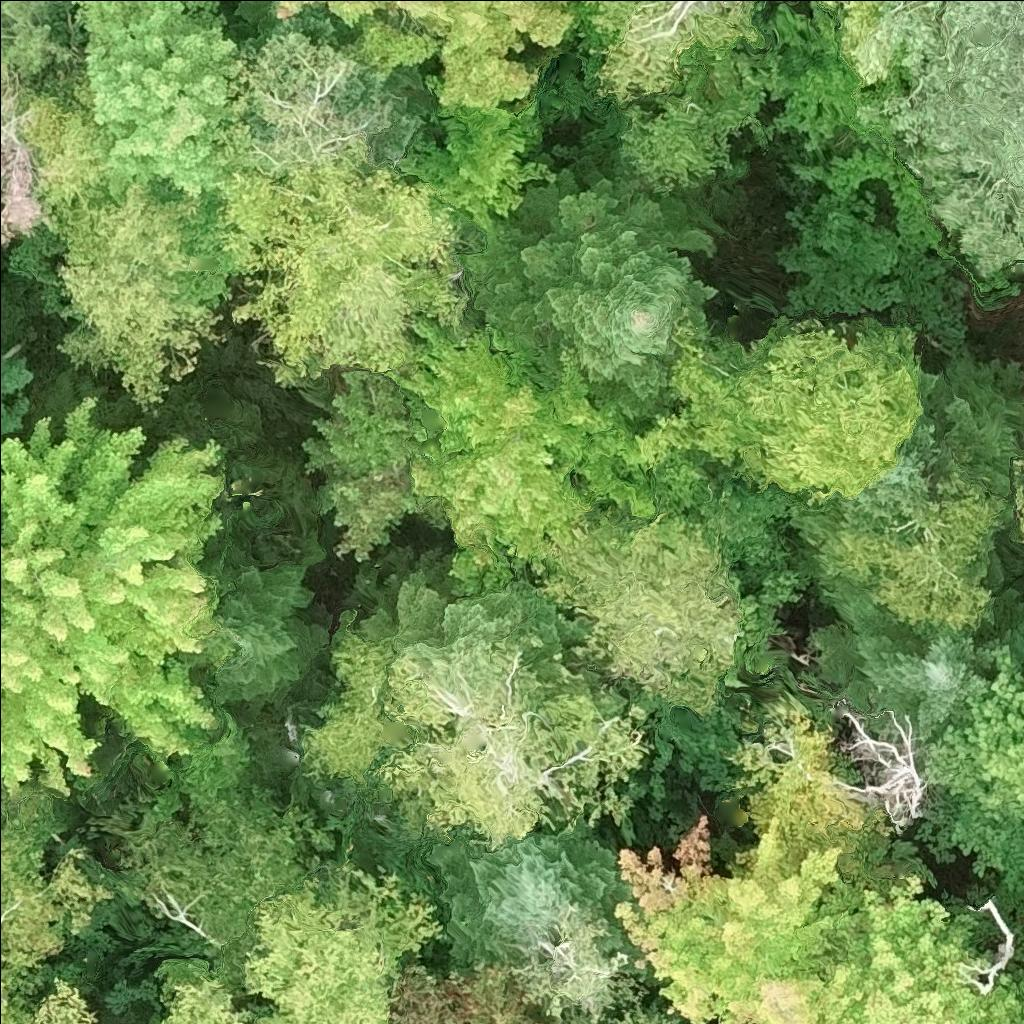crown: (302, 317, 653, 600), (0, 394, 228, 797), (123, 791, 443, 1023), (306, 628, 644, 846), (472, 178, 716, 424), (610, 317, 941, 498), (25, 92, 209, 411), (217, 168, 452, 390), (617, 815, 857, 1023), (539, 499, 754, 714), (891, 0, 1023, 276), (72, 0, 246, 198), (282, 0, 571, 104), (815, 479, 1008, 634), (429, 824, 635, 963), (827, 879, 1023, 1023), (733, 697, 871, 880), (0, 816, 118, 1023), (926, 649, 1023, 889), (398, 79, 551, 229), (563, 0, 778, 103), (815, 623, 1004, 739), (251, 42, 400, 176), (199, 564, 314, 706), (505, 908, 647, 1019), (354, 581, 562, 652), (842, 705, 930, 836), (626, 0, 728, 54), (31, 978, 87, 1023), (608, 1011, 679, 1023), (1014, 456, 1023, 520)
